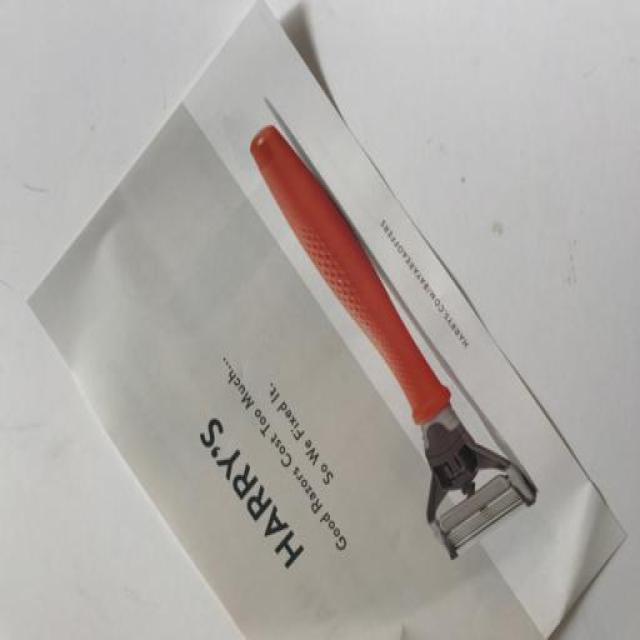paper: (23, 0, 628, 638)
